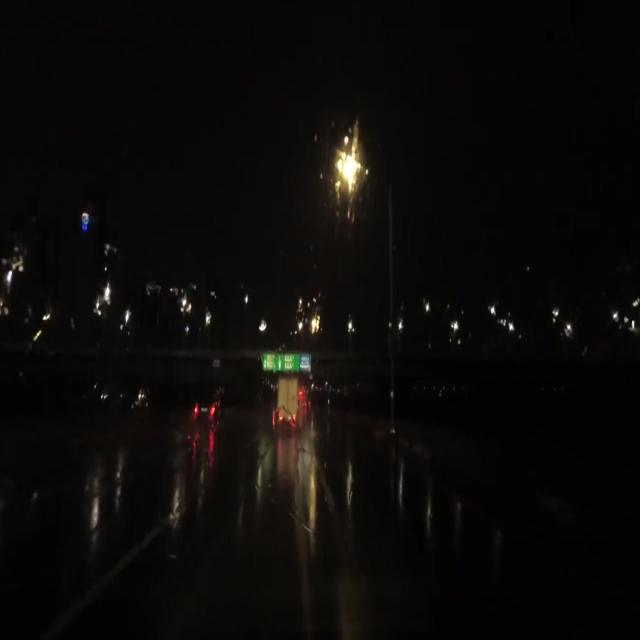Car: (189, 393, 228, 430)
